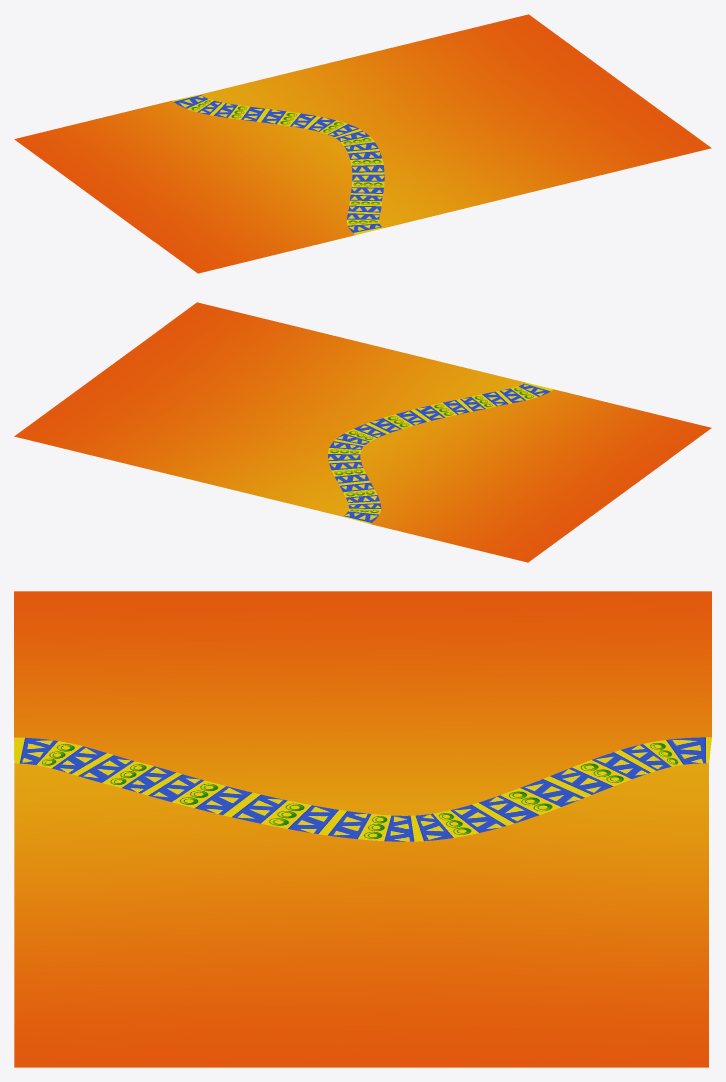
Rendered from loop.FBX.
3 renders of one model, top to bottom at view 1: azimuth 30°, elevation 25°; view 2: azimuth 150°, elevation 25°; view 3: azimuth 270°, elevation 25°, orthographic. The views are drawn at different scales.
Parts seen in each view (by area): view 1: Object001; view 2: Object001; view 3: Object001.
Boxes of the visible parts, box(x1,y1,x2,y2) form: Object001: box(14, 14, 711, 273); Object001: box(14, 302, 711, 562); Object001: box(14, 591, 711, 1067).
Bounding box in the file's own units: 874 × 2.08e-06 × 541.
